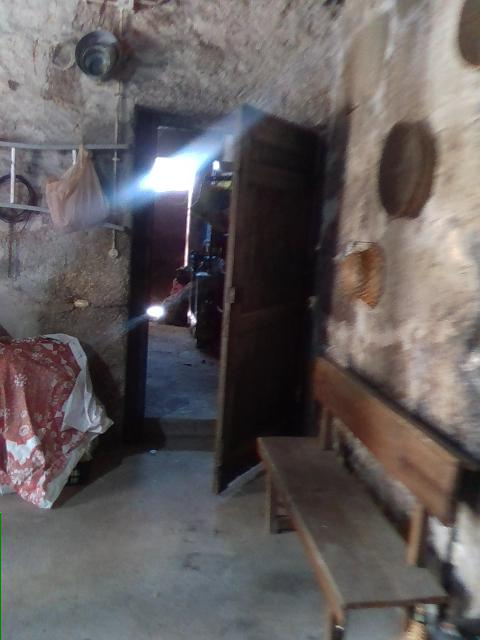semi_door: (121, 97, 327, 496)
